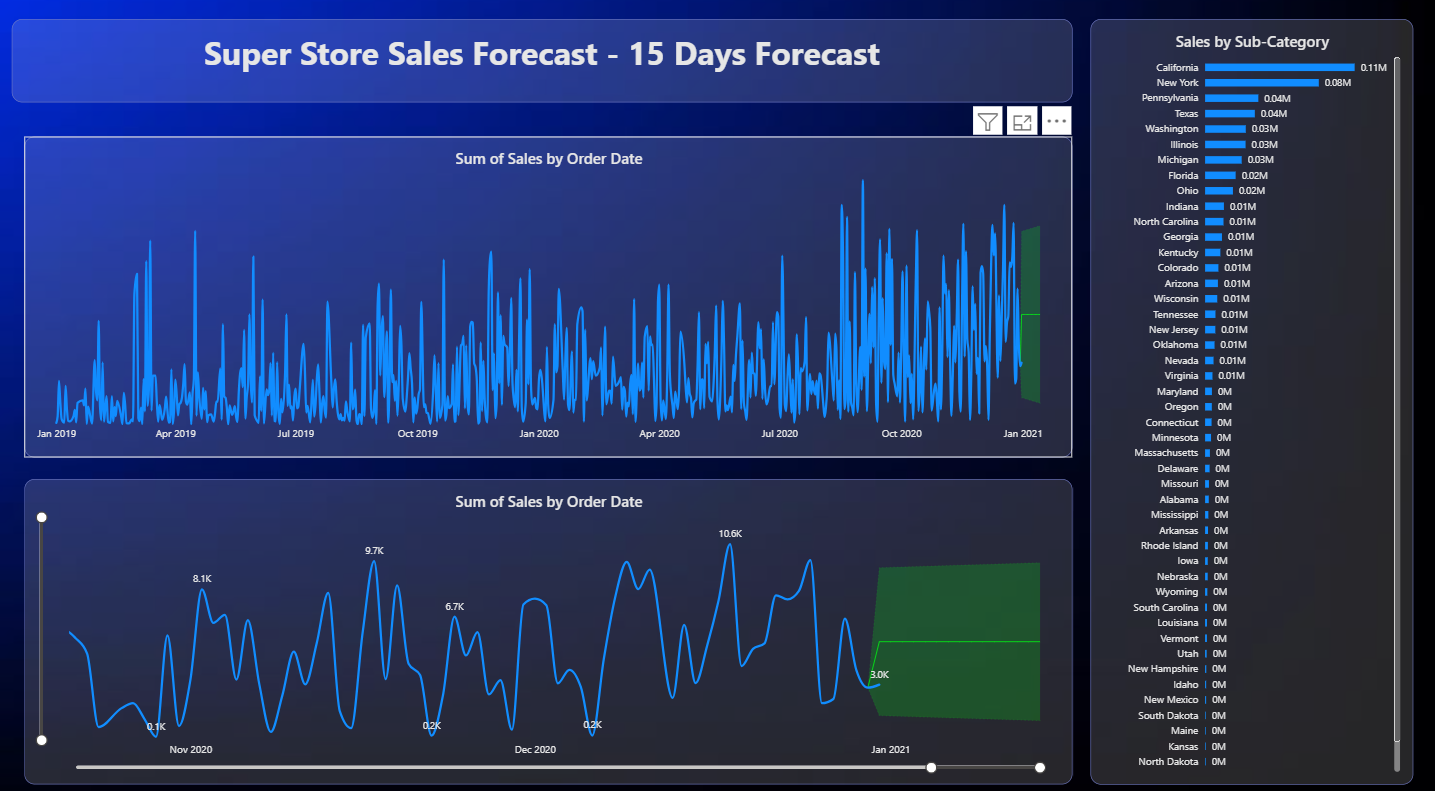

The dashboard page shown, as its layout file describes it:
{"tool":"powerbi","page":{"name":"Page 2","canvas":[1920,1080],"ordinal":1},"visuals":[{"type":"lineChart","fields":{"Category":["SuperStore_Sales_Dataset.Order Date"],"Y":["Sum(SuperStore_Sales_Dataset.Sales)"]},"box":[35,183.2,1397.6,428.1],"z":0},{"type":"lineChart","fields":{"Category":["SuperStore_Sales_Dataset.Order Date"],"Y":["Sum(SuperStore_Sales_Dataset.Sales)"]},"box":[35,640.1,1397.6,407.5],"z":1000},{"type":"clusteredBarChart","title":"Sales by Sub-Category","fields":{"Category":["SuperStore_Sales_Dataset.State"],"Y":["Sum(SuperStore_Sales_Dataset.Sales)"]},"box":[1457.3,26.8,430.2,1020.9],"z":2000},{"type":"textbox","box":[18.5,26.8,1414.1,111.1],"z":3000}]}

Visuals, with their boxes in screenshot pixels (x1, y1, x2, y2), scaled from the page's 1920x1080 canvas onto the 1435x791 screenshot:
lineChart - SuperStore_Sales_Dataset.Order Date x Sum(SuperStore_Sales_Dataset.Sales): x1=26 y1=134 x2=1071 y2=448
lineChart - SuperStore_Sales_Dataset.Order Date x Sum(SuperStore_Sales_Dataset.Sales): x1=26 y1=469 x2=1071 y2=767
"Sales by Sub-Category" clusteredBarChart: x1=1089 y1=20 x2=1411 y2=767
textbox: x1=14 y1=20 x2=1071 y2=101
